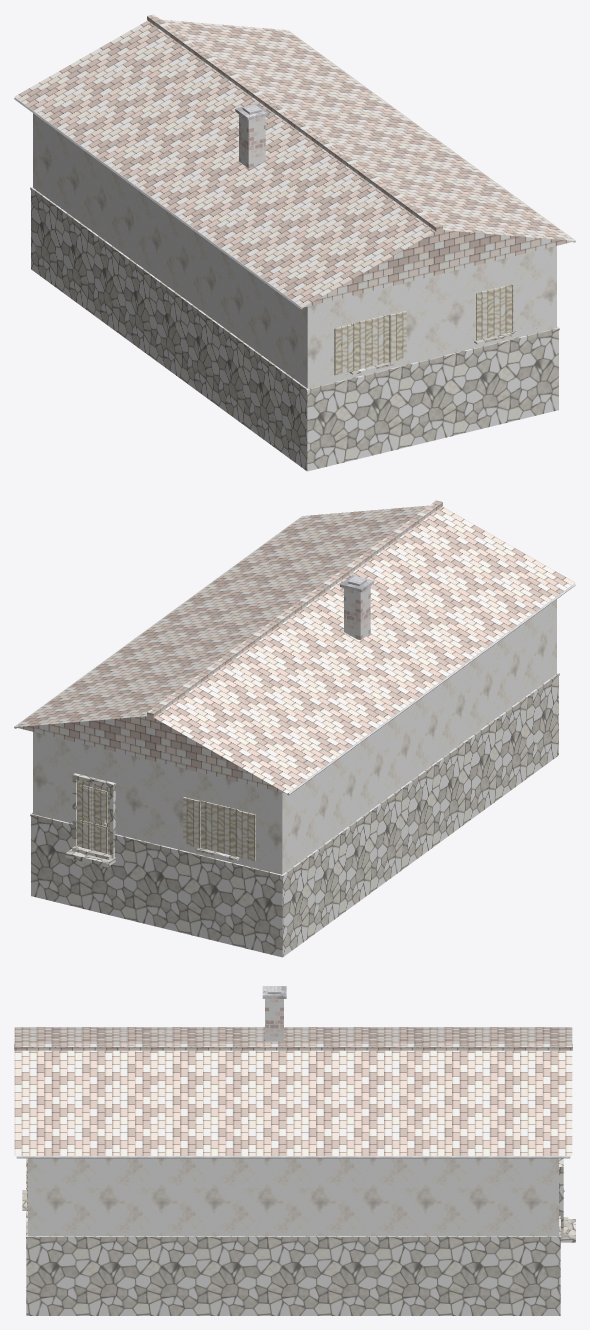
3 views of the same model, one above another, from view 1: azimuth 30°, elevation 25°; view 2: azimuth 150°, elevation 25°; view 3: azimuth 270°, elevation 25° (orthographic). The views are drawn at different scales.
Parts seen in each view (by area): view 1: b1084716807; view 2: b1084716807; view 3: b1084716807.
Boxes of the visible parts, x1,y1,x2,y2 form: b1084716807: (14,14,575,471); b1084716807: (14,500,575,957); b1084716807: (14,986,575,1315).
Size of the model in its own units: 8.14 by 7.09 by 14.88.
Materials: 17 (17 with a texture image).
